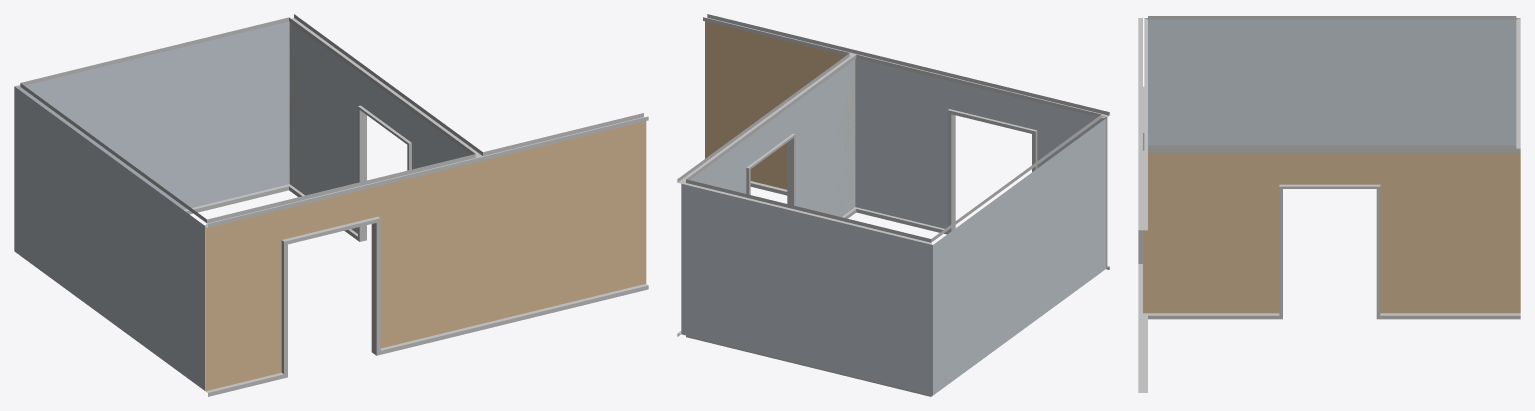
The model's file is WallKitchen.fbx.
3 views of the same model, side by side, from view 1: azimuth 30°, elevation 25°; view 2: azimuth 150°, elevation 25°; view 3: azimuth 270°, elevation 25° (orthographic). The views are drawn at different scales.
Parts seen in each view (by area): view 1: Wall_Kitchen; view 2: Wall_Kitchen; view 3: Wall_Kitchen.
Part boxes in pixels (left/top/right/bottom): Wall_Kitchen: left=14, top=14, right=648, bottom=396; Wall_Kitchen: left=677, top=14, right=1109, bottom=396; Wall_Kitchen: left=1138, top=16, right=1520, bottom=392.
Bounding box in the file's own units: 8 × 3 × 6.09.
